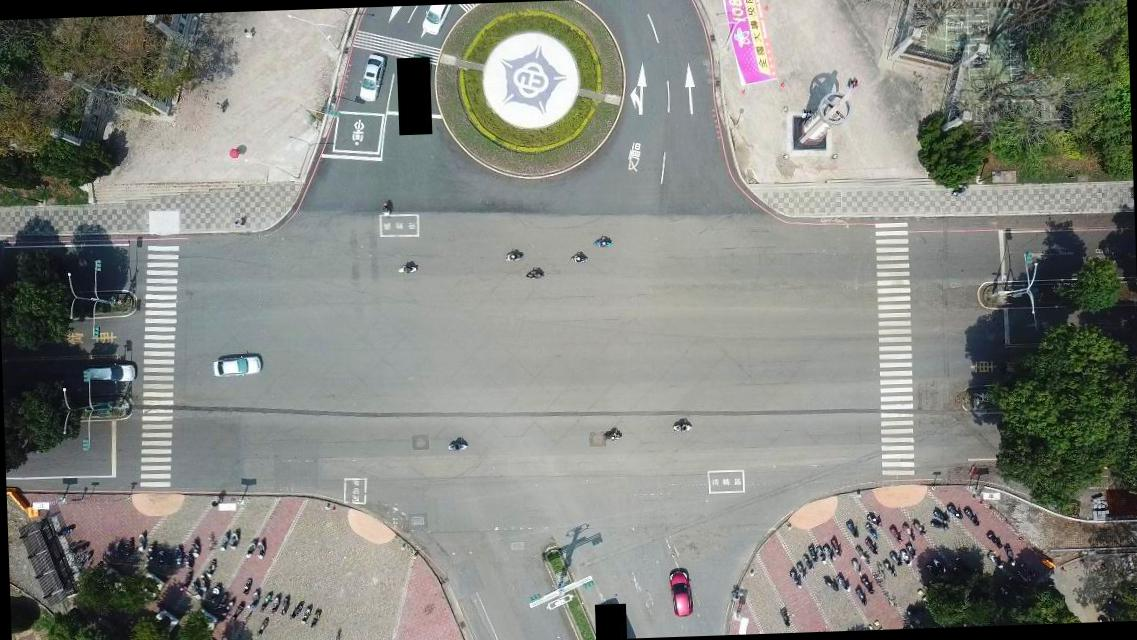vehicle: (355, 54, 384, 104), (211, 354, 262, 378), (666, 570, 692, 617), (419, 5, 454, 36), (82, 364, 134, 384)
